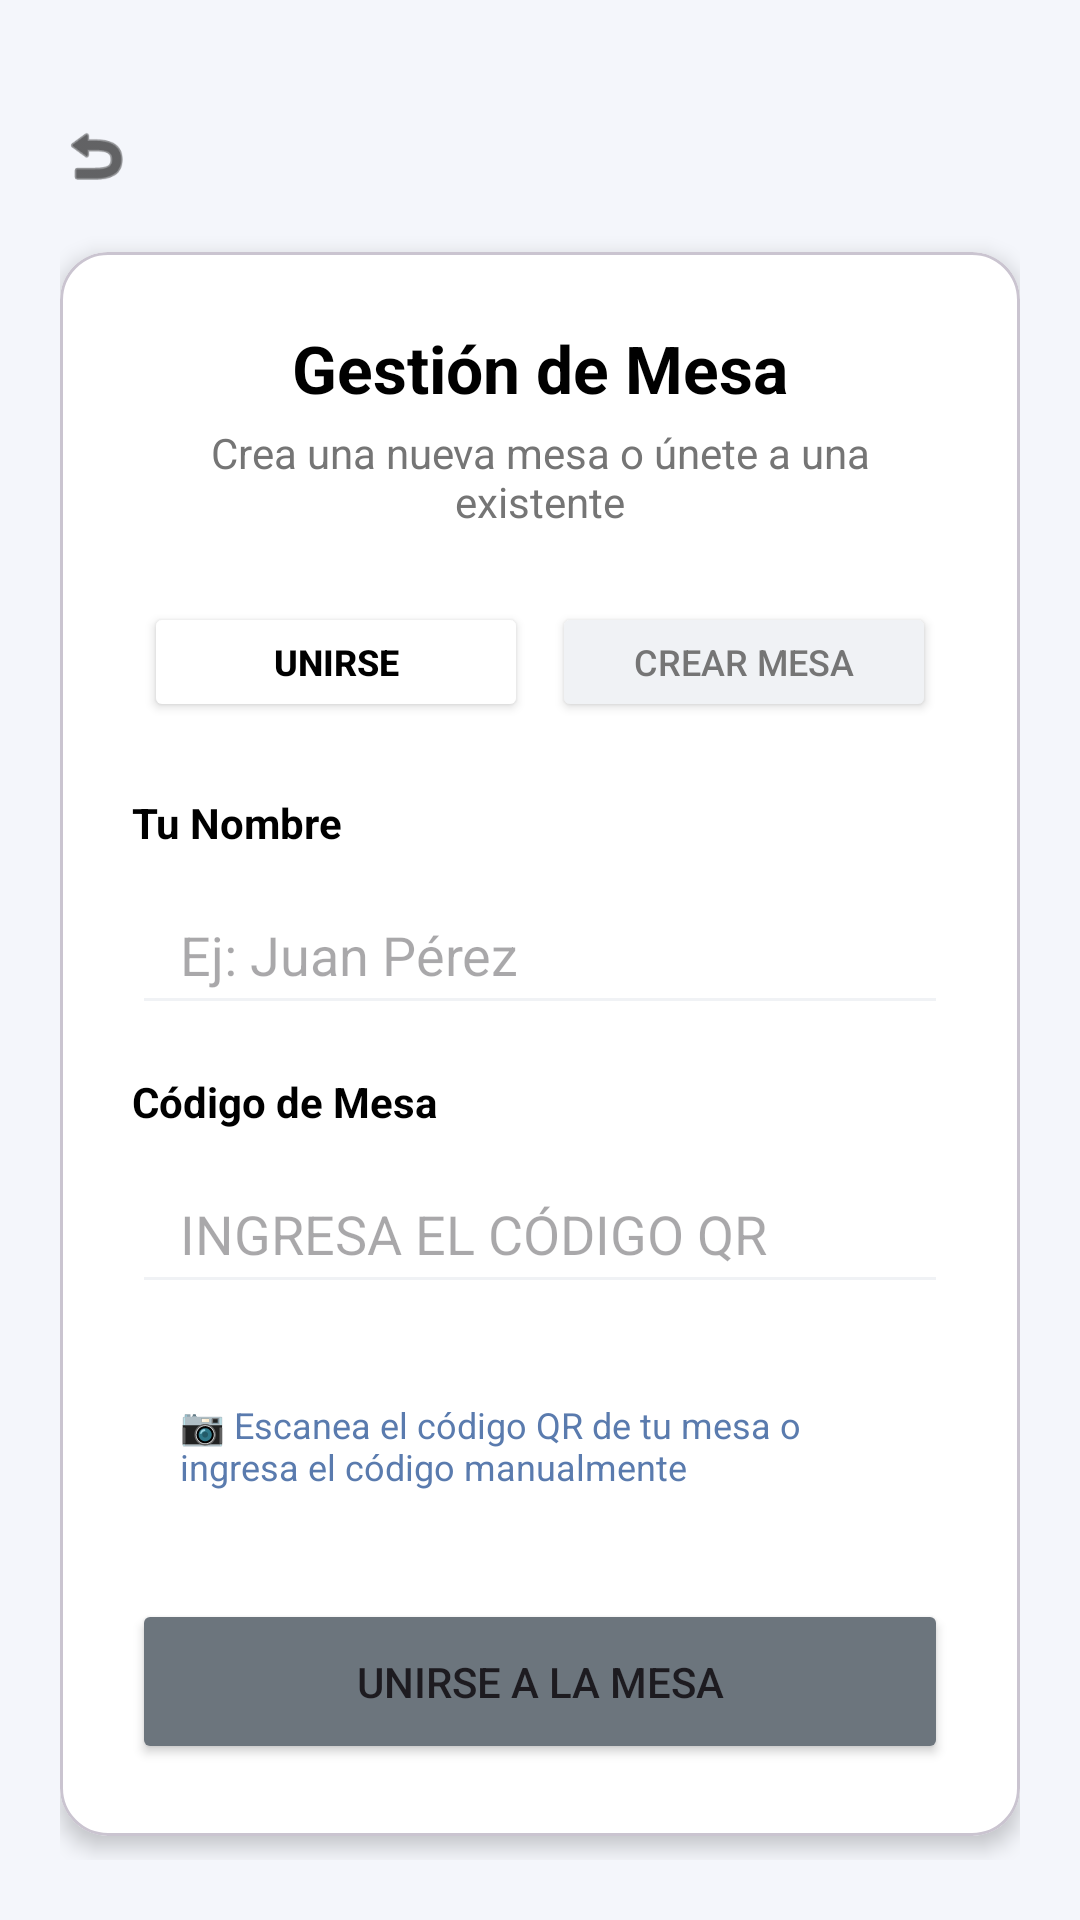

Icon bounding boxes for this 1080*1920 phone screenshot, format (x1, y1, x2, y2):
revert: (71, 133, 123, 180)
